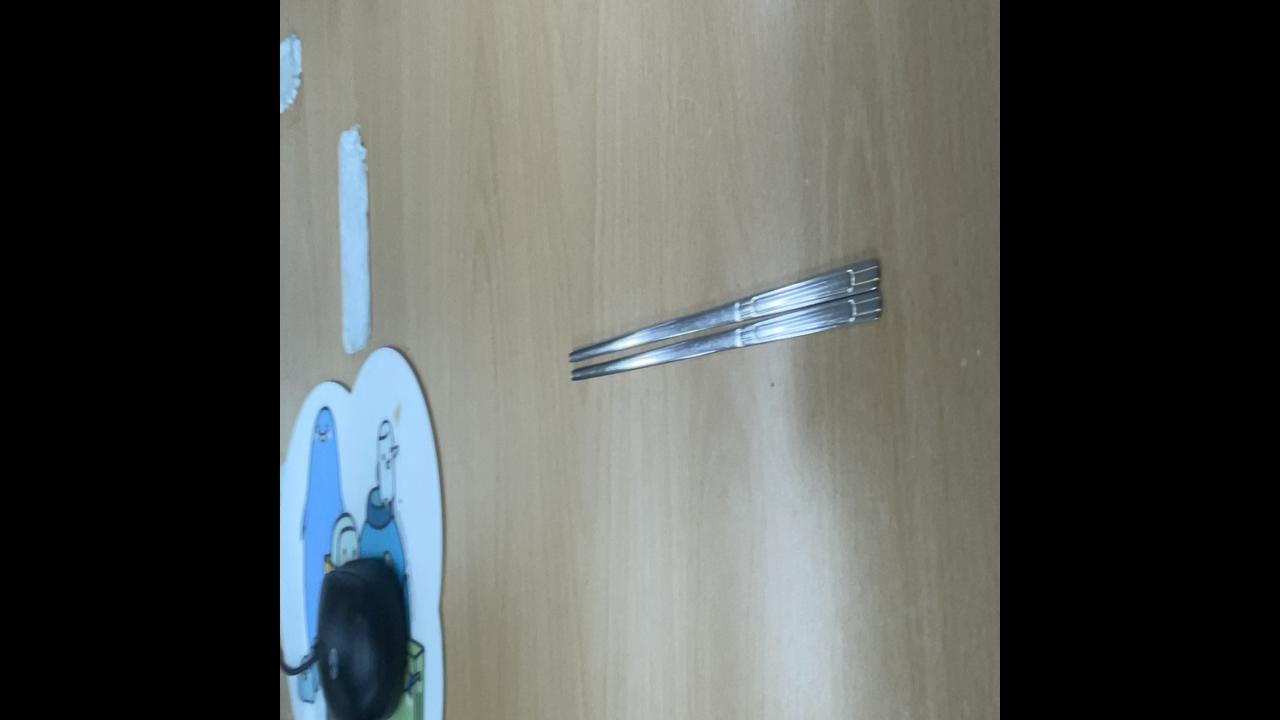chopstick: (566, 253, 888, 388)
